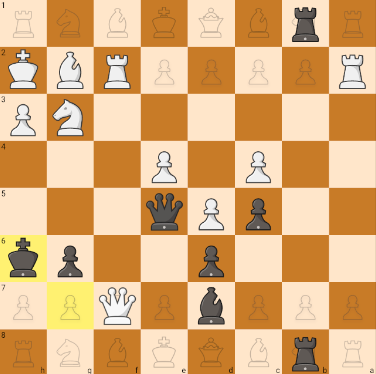bb: (288, 4, 327, 48), (195, 287, 230, 326)
bk: (2, 238, 45, 285)
bp: (190, 239, 232, 283), (240, 193, 279, 234), (52, 239, 87, 279)
bq: (141, 191, 187, 233)
br: (289, 334, 322, 374)
wb: (50, 49, 90, 91)
wk: (2, 47, 46, 91)
wn: (50, 98, 88, 139)
wp: (239, 149, 280, 183), (5, 100, 39, 139), (198, 191, 228, 233), (151, 146, 180, 186)
wq: (96, 284, 138, 325)
wr: (334, 51, 372, 91), (101, 51, 134, 91)
